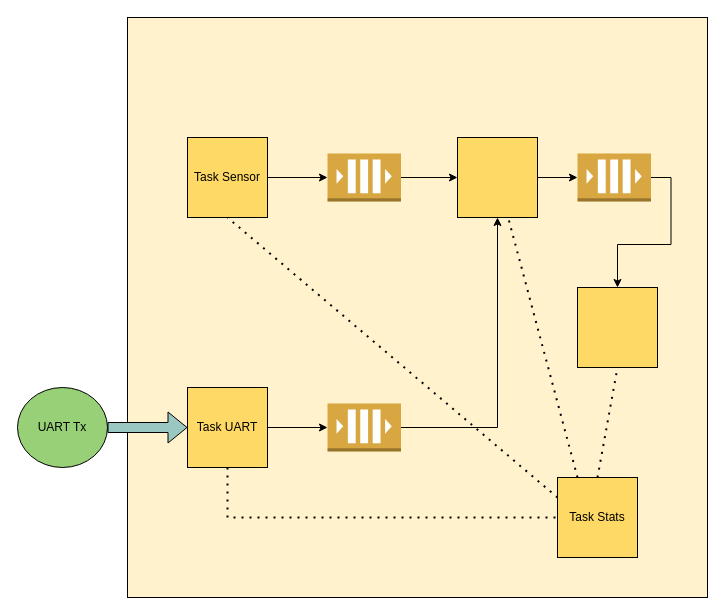
The diagram is 725 pixels wide and 615 high, and some of its shapes have lost their labels. The box of each missing label's shape, as (x1, y1, x2, y2) in pixels:
Task Filter: (456, 136, 538, 218)
Task Graph: (576, 286, 658, 368)
